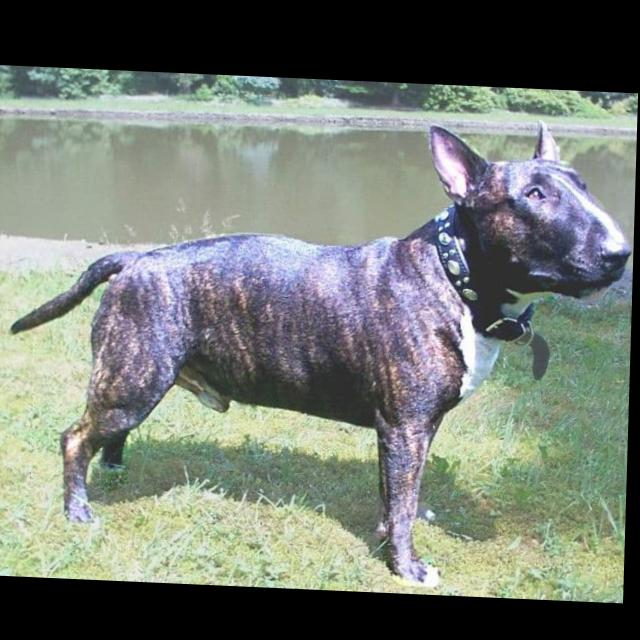bullterrier: (6, 97, 637, 592)
